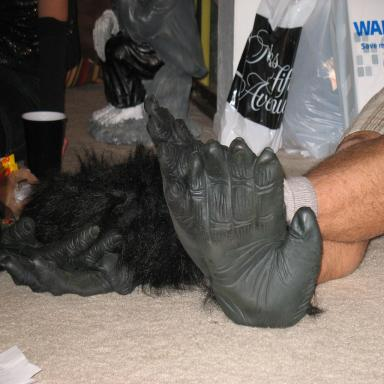glove: (146, 94, 231, 288)
person: (144, 86, 384, 327), (0, 0, 75, 162)
plasticbag: (215, 0, 318, 156), (281, 0, 358, 159)
